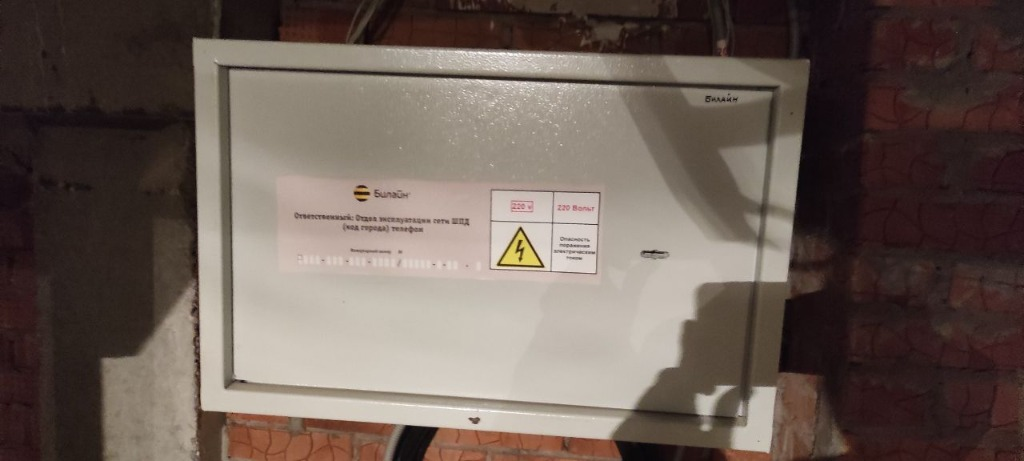shta-7m: (185, 33, 813, 456)
